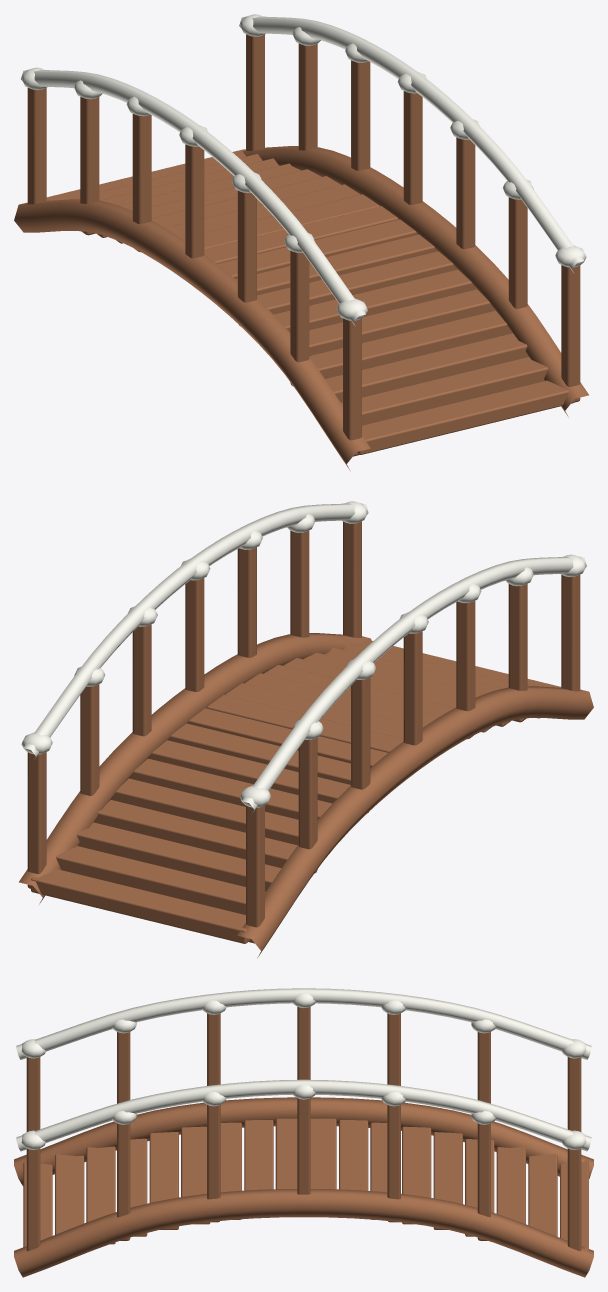
The model's file is storybook-christmas-market-snowy-footbridge-dd9981ea__19680.glb.
3 renders of one model, top to bottom at view 1: azimuth 30°, elevation 25°; view 2: azimuth 150°, elevation 25°; view 3: azimuth 270°, elevation 25°, orthographic. The views are drawn at different scales.
Parts seen in each view (by area): view 1: snowy-footbridge; view 2: snowy-footbridge; view 3: snowy-footbridge.
Part boxes in pixels (bbox=[...]): snowy-footbridge: bbox=[14, 14, 588, 471]; snowy-footbridge: bbox=[19, 501, 593, 958]; snowy-footbridge: bbox=[14, 988, 593, 1277].
Bounding box in the file's own units: 1.63 × 1.42 × 3.86.
